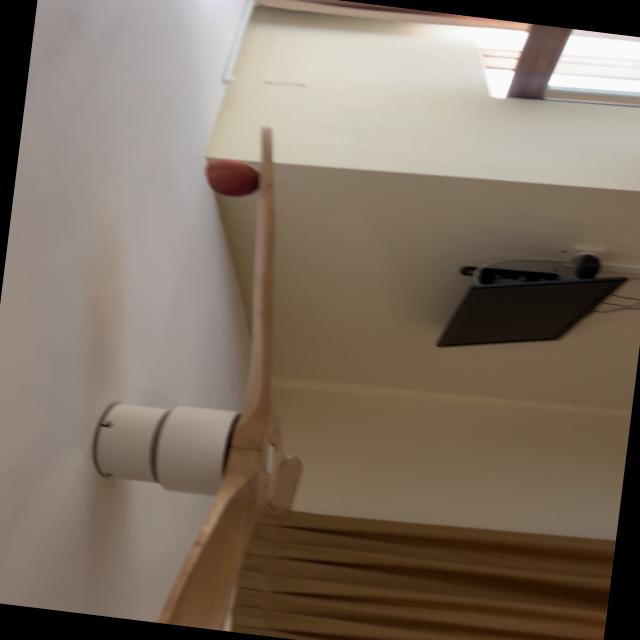apple: (206, 159, 258, 196)
